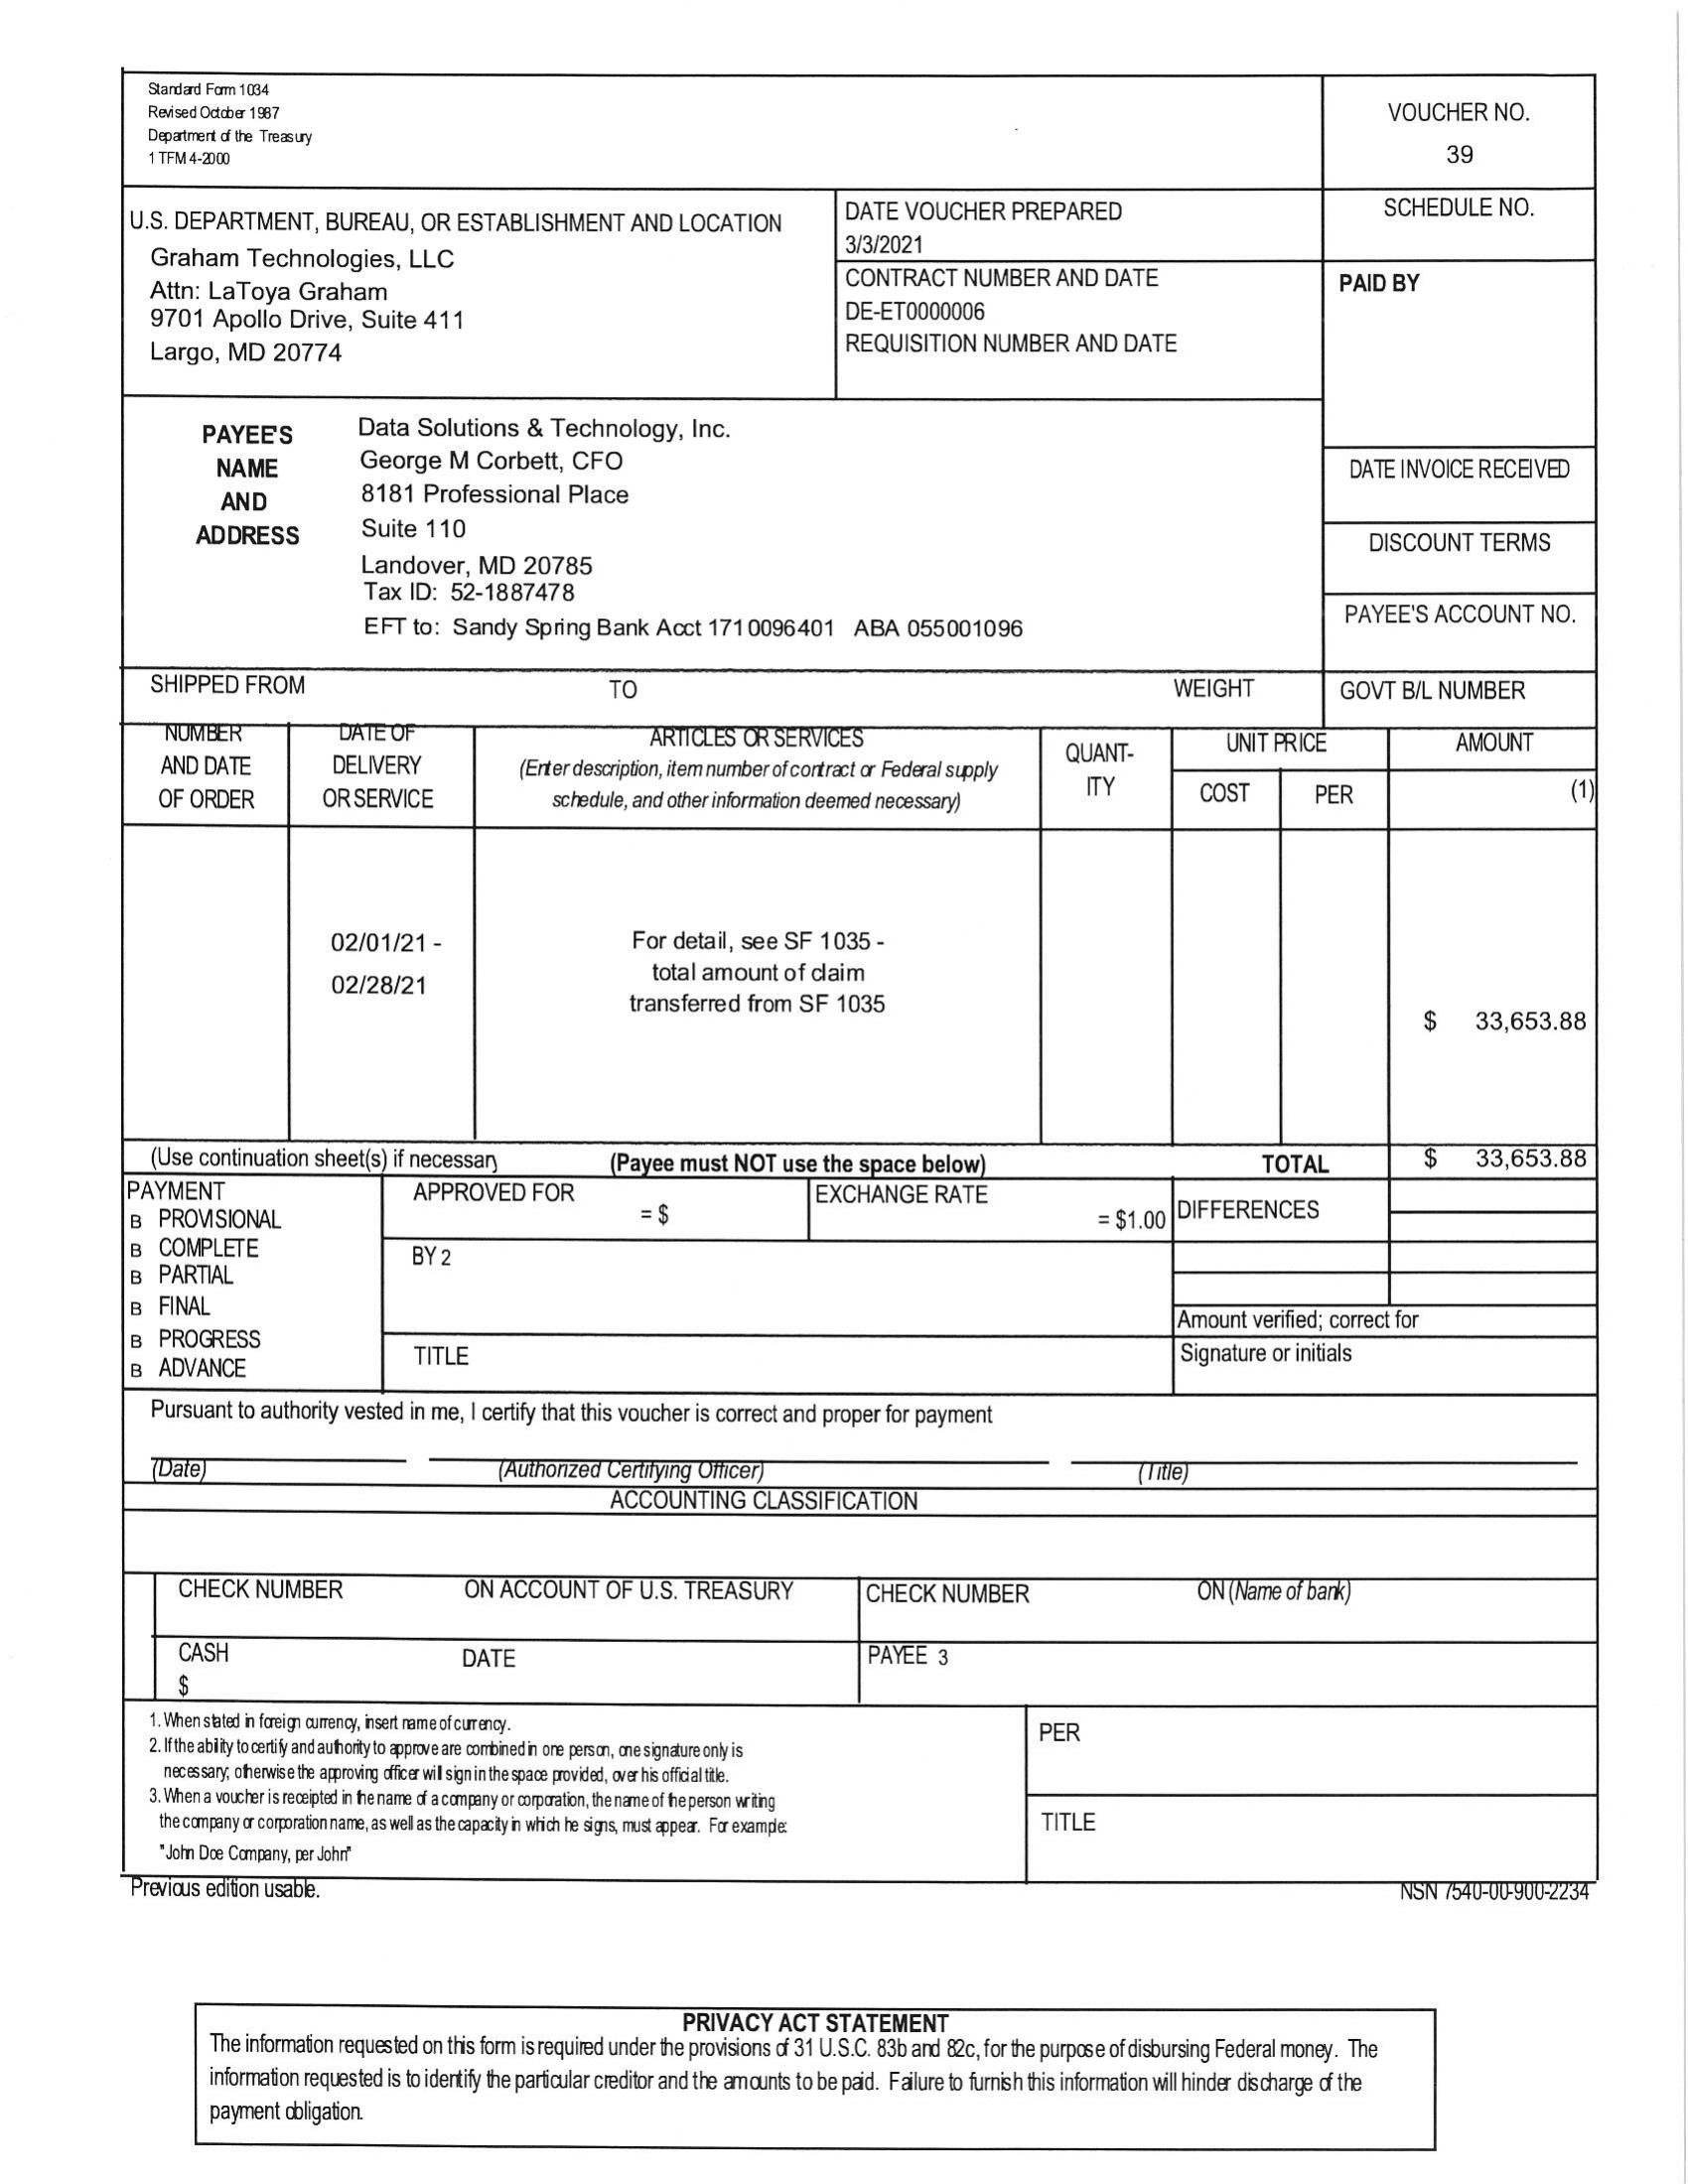table: (106, 716, 1617, 1145)
